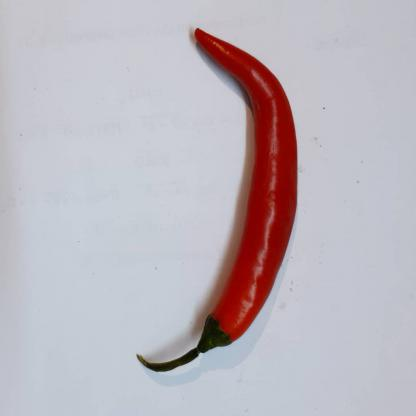chili: (129, 27, 299, 371)
